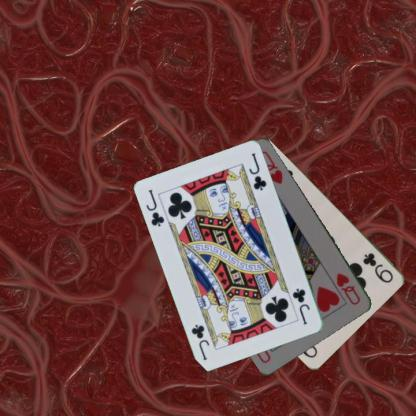9c: (360, 250, 395, 284)
Jc: (144, 187, 166, 228), (290, 286, 311, 326)
Qh: (333, 270, 362, 306)
